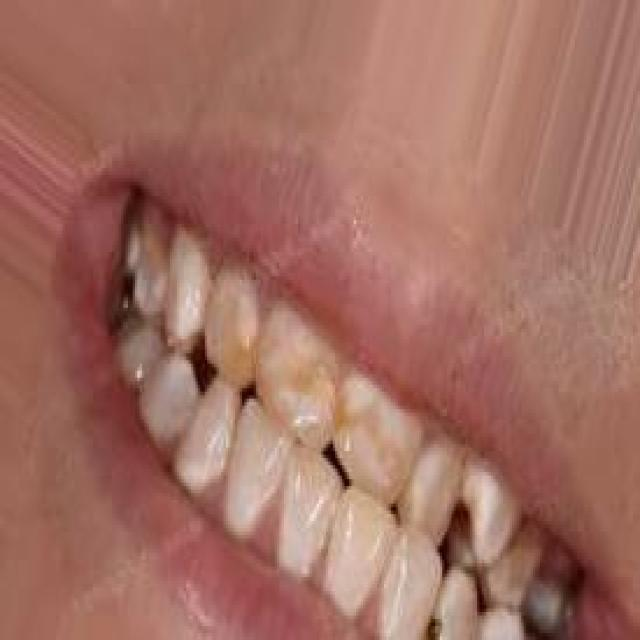caries: (426, 598, 458, 640)
